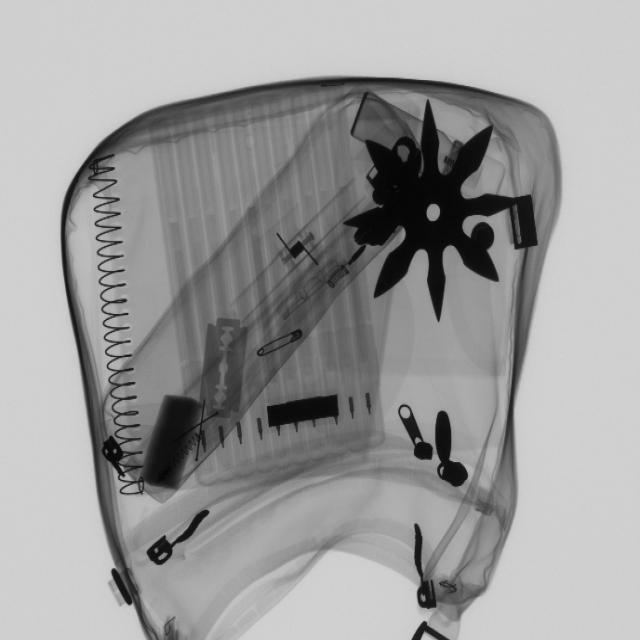BLADE: (195, 311, 254, 432)
SHURIKEN: (353, 99, 517, 325)
